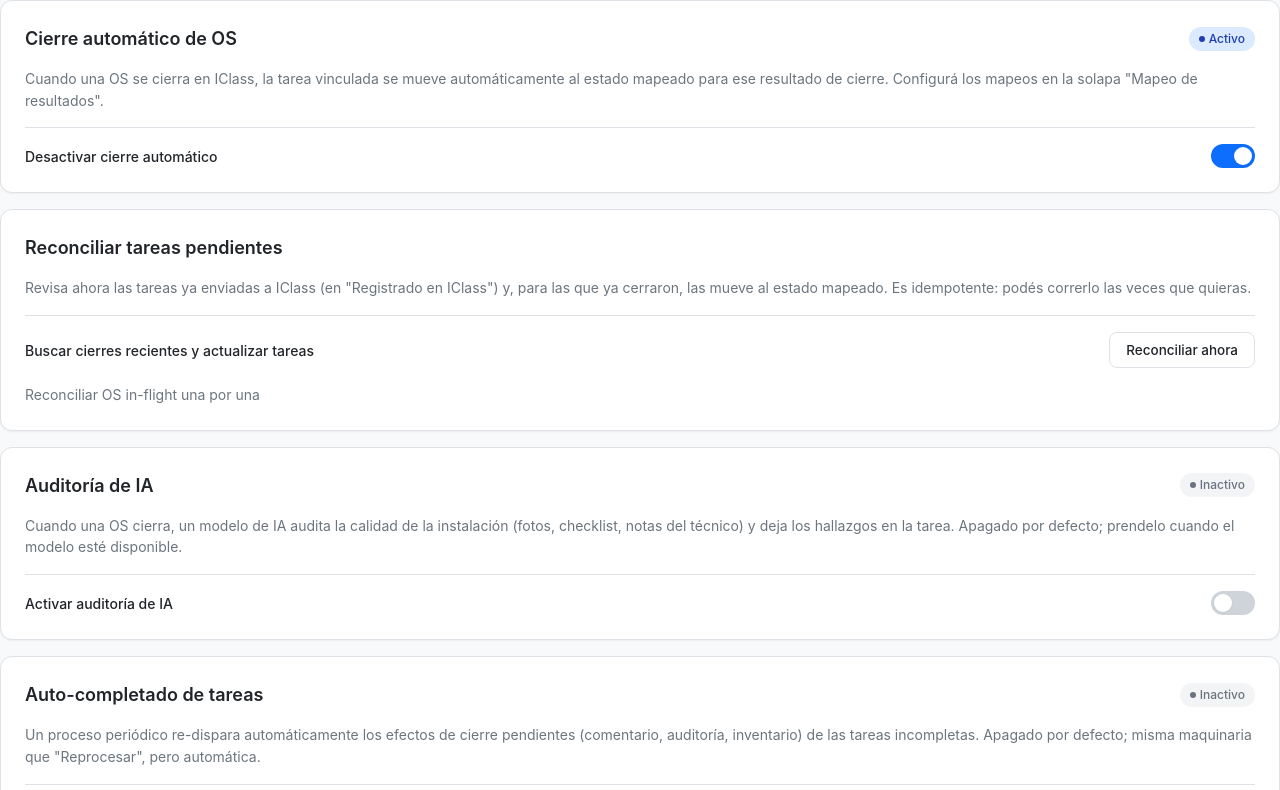
Test: IClassClosureFlagBody › B1.2 shows "Ya hay una reconciliación en curso" when backfill returns queued:false already-running
Click the button "Reconciliar ahora": click(1182, 350) [1109,332,1255,368]
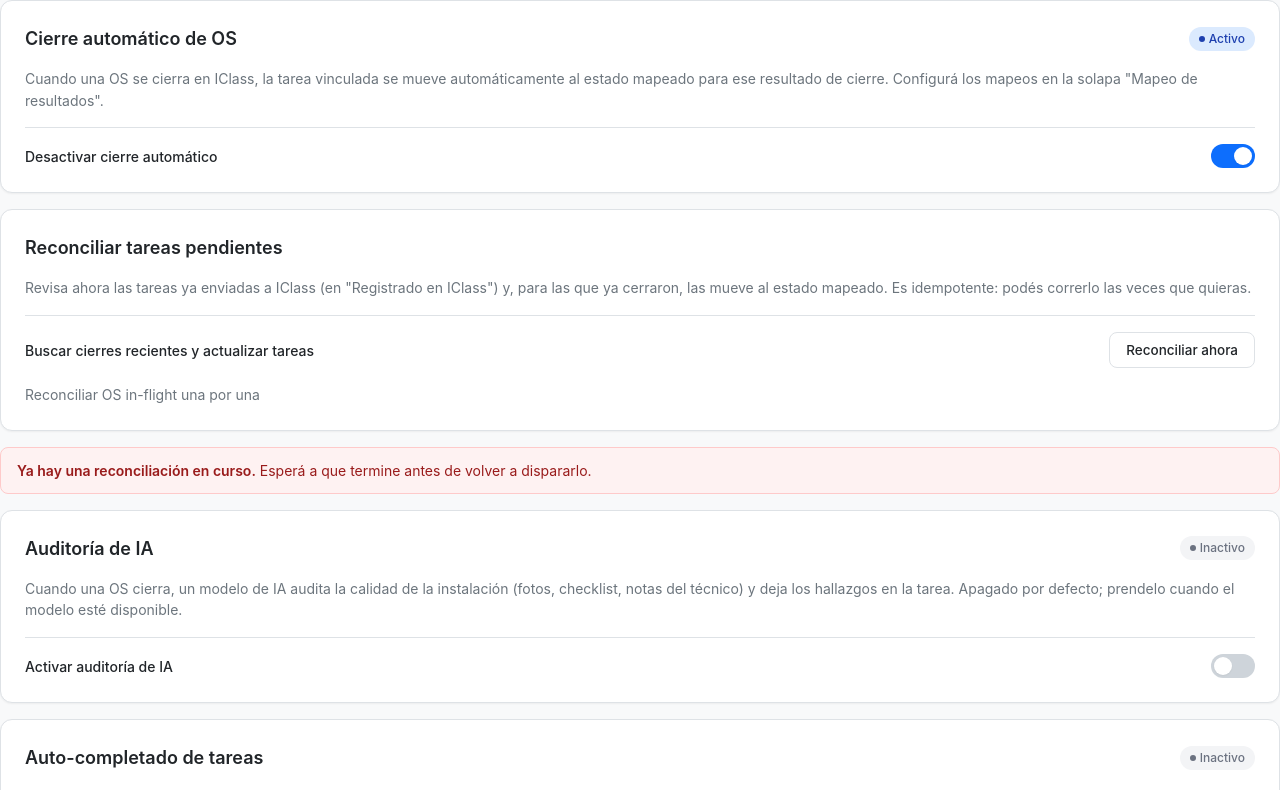
Check: the text "Ya hay una reconciliación en curso." is shown, box [17,462,256,479]
